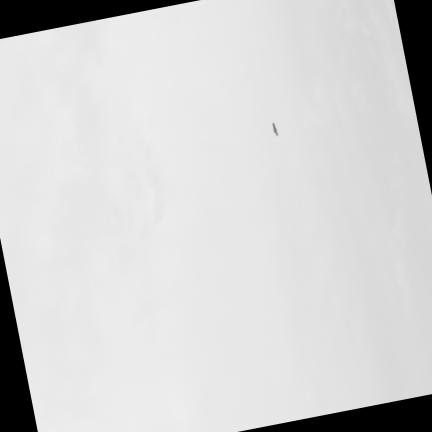Shahed: (272, 122, 278, 135)
